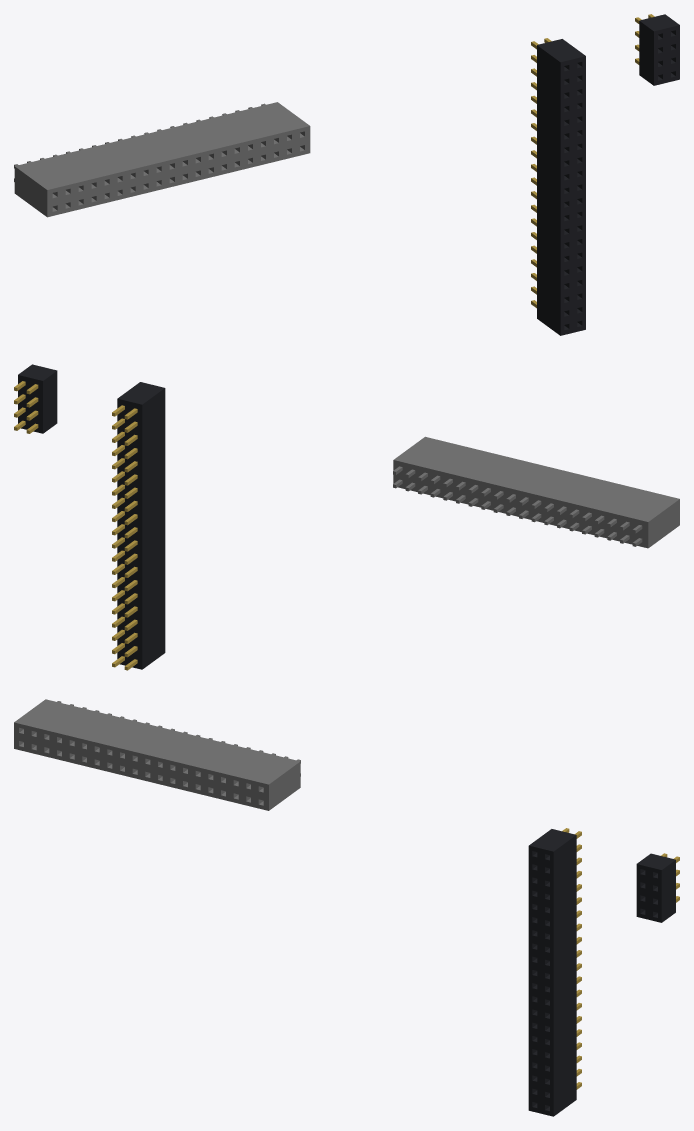
The model's file is connector_fit_references.glb.
3 views of the same model, one above another, from view 1: azimuth 30°, elevation 25°; view 2: azimuth 150°, elevation 25°; view 3: azimuth 330°, elevation 25° (orthographic). The views are drawn at different scales.
Visible parts, largest first — view 1: o1.1.1.1, o1.2.1.1, o1.3.1.1; view 2: o1.1.1.1, o1.2.1.1, o1.3.1.1; view 3: o1.1.1.1, o1.2.1.1, o1.3.1.1.
Part boxes in pixels (x1,y1,x2,y2): o1.1.1.1: (14, 102, 310, 217); o1.2.1.1: (537, 39, 585, 335); o1.3.1.1: (639, 14, 679, 85); o1.1.1.1: (393, 436, 679, 548); o1.2.1.1: (117, 382, 165, 669); o1.3.1.1: (18, 364, 57, 433); o1.1.1.1: (14, 699, 300, 810); o1.2.1.1: (528, 829, 576, 1116); o1.3.1.1: (636, 853, 675, 922).
Size of the model in its own units: 0.1269 by 0.0522 by 0.0145.
